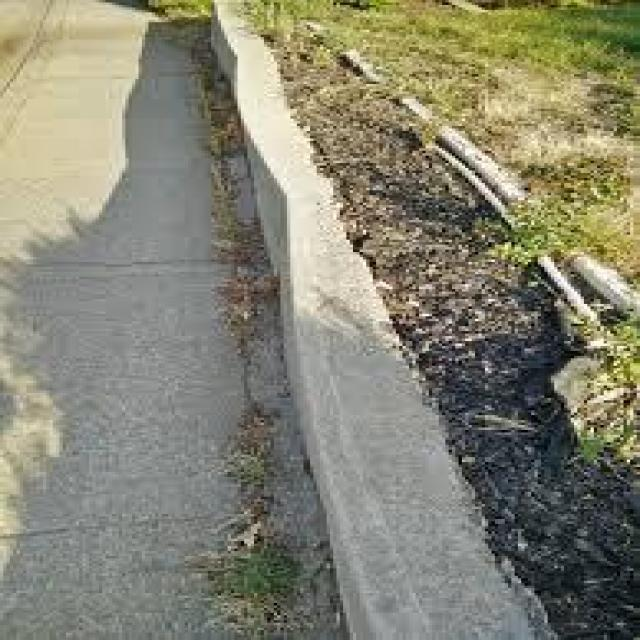bump: (208, 20, 522, 640)
